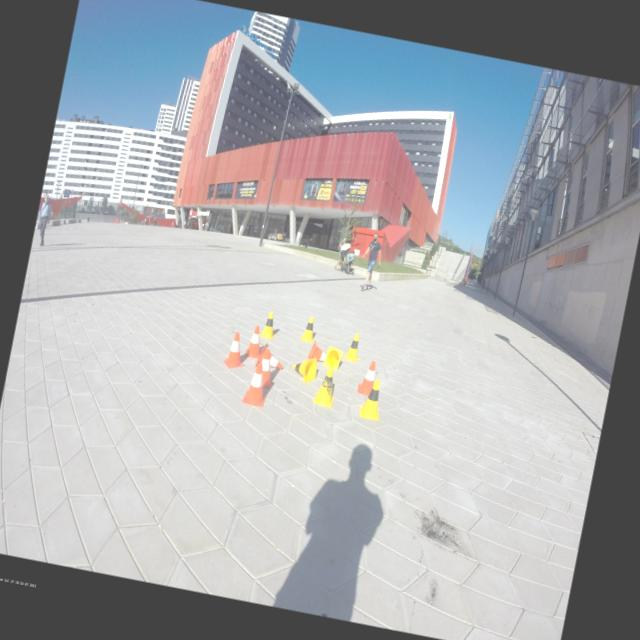orange_cone: (242, 361, 272, 408), (222, 331, 250, 372), (255, 342, 286, 372), (257, 349, 278, 389), (357, 359, 378, 396), (244, 325, 264, 359), (308, 340, 328, 362)
yellow_cone: (358, 378, 386, 421), (312, 365, 340, 408), (290, 354, 320, 385), (342, 332, 365, 363), (260, 310, 280, 340), (324, 346, 344, 371), (301, 316, 318, 342)
